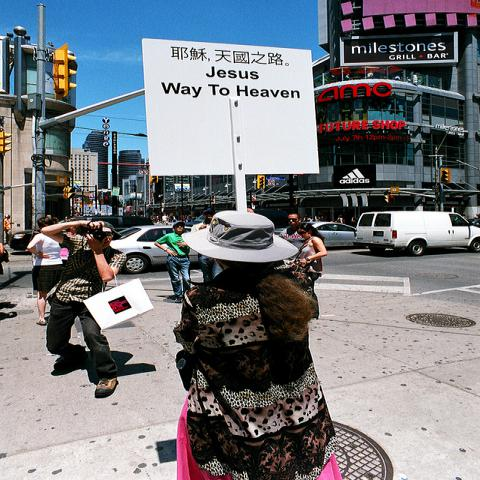car: (354, 211, 479, 259), (109, 225, 170, 274), (275, 222, 366, 249), (70, 216, 154, 231), (9, 230, 41, 251)
truck: (353, 211, 479, 257)
